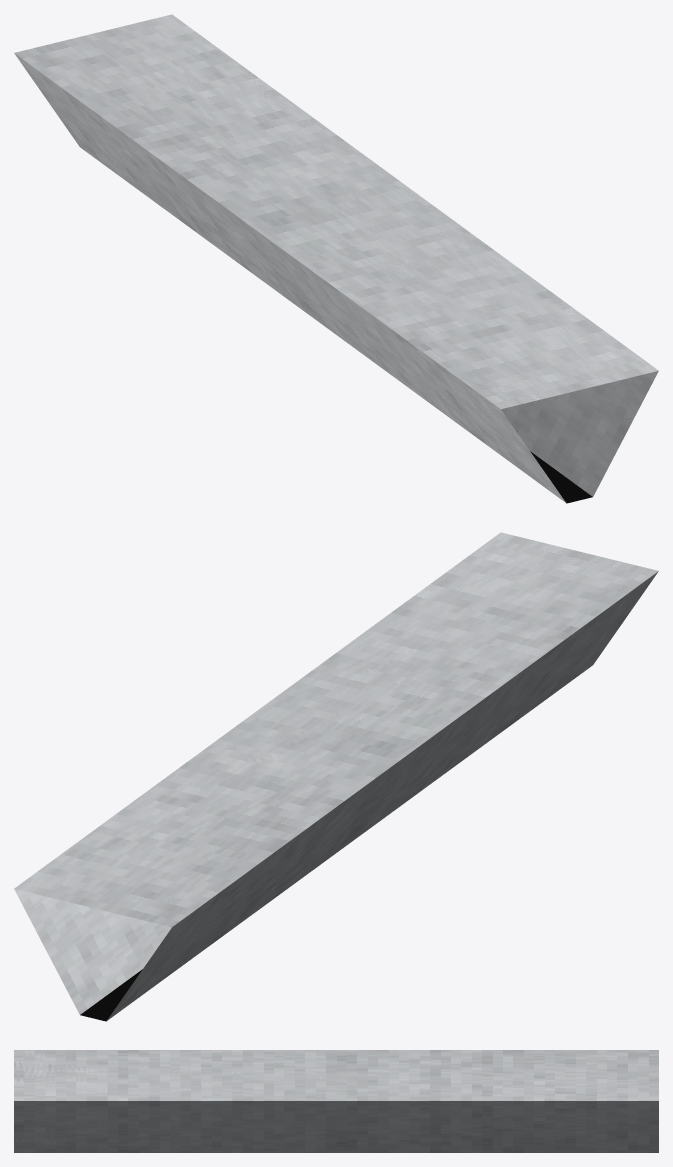
Rendered from rigid_catenary.obj.
3 views of the same model, one above another, from view 1: azimuth 30°, elevation 25°; view 2: azimuth 150°, elevation 25°; view 3: azimuth 270°, elevation 25° (orthographic). The views are drawn at different scales.
Visible parts, largest first — view 1: cuboid; view 2: cuboid; view 3: cuboid.
Part boxes in pixels (x1,y1,x2,y2): cuboid: (14, 14, 658, 503); cuboid: (14, 532, 658, 1021); cuboid: (14, 1050, 658, 1152).
Size of the model in its own units: 0.1875 by 0.1251 by 1.
Materials: 1 (1 with a texture image).
